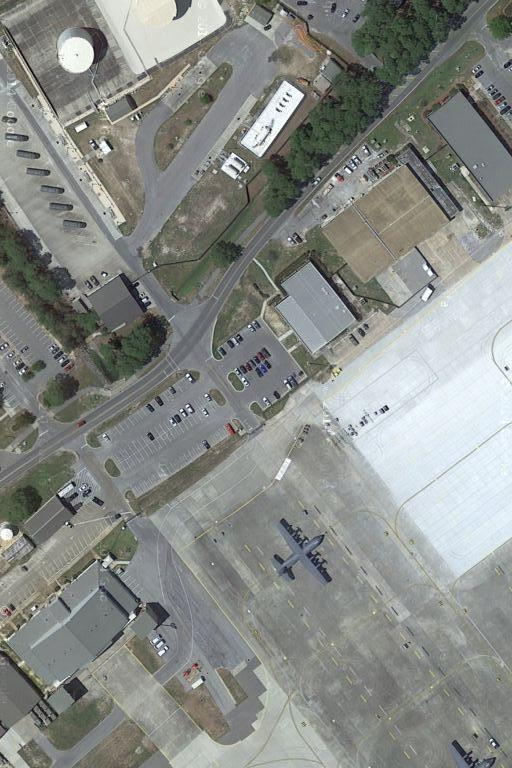C-130: (269, 519, 330, 591)
